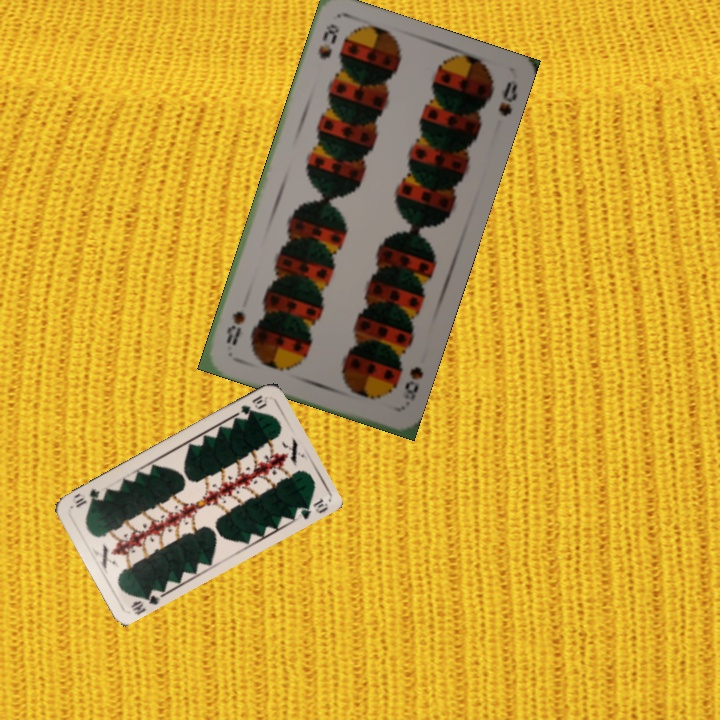G10: (126, 585, 164, 617), (237, 391, 270, 417)
S8: (314, 19, 342, 62), (400, 362, 426, 403)
